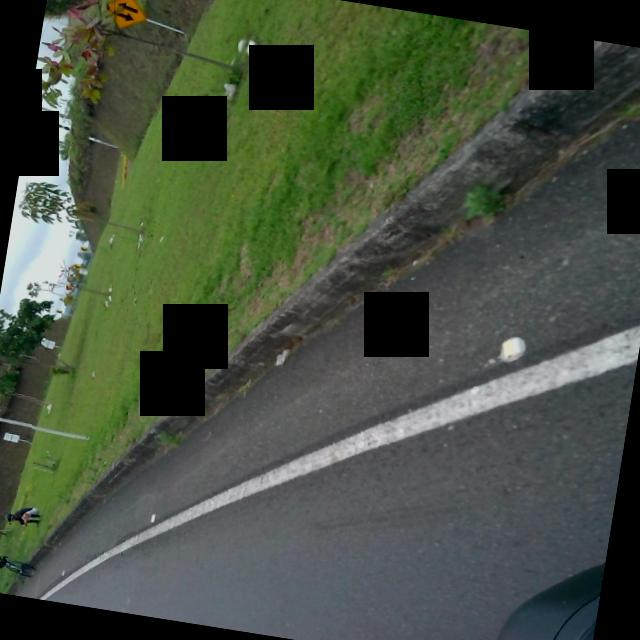DITCH: (5, 0, 640, 640), (54, 0, 640, 613)
